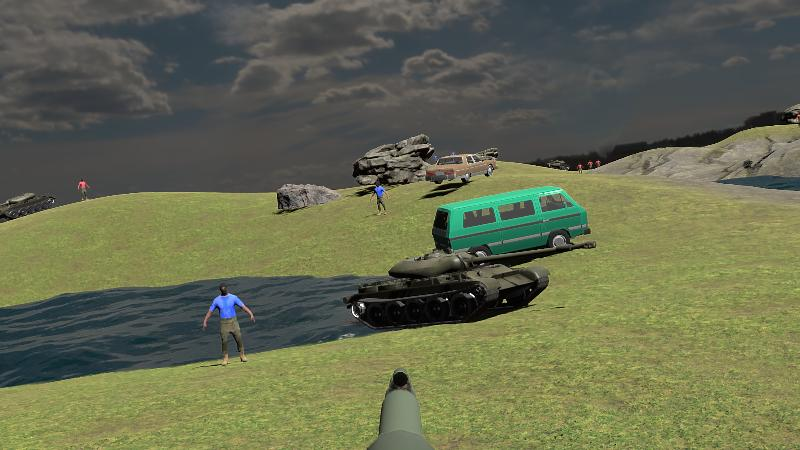Human: (203, 284, 255, 366)
Tank: (341, 242, 597, 331), (0, 192, 56, 224)
car: (431, 187, 593, 277), (425, 153, 497, 184)
